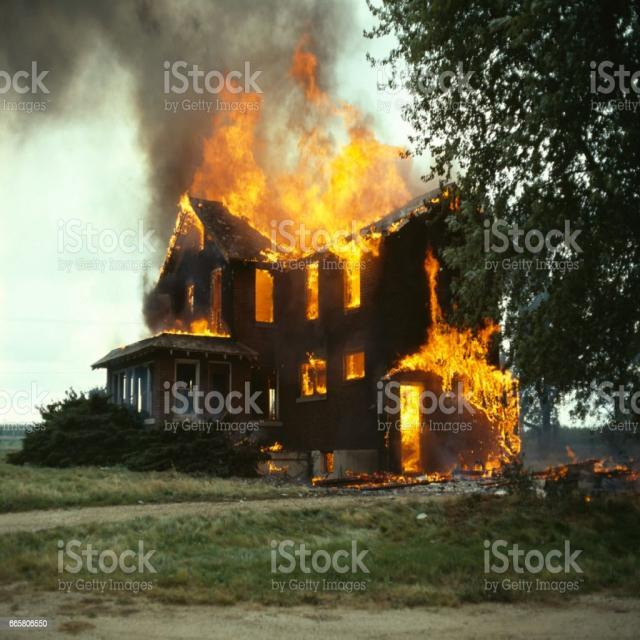Fire: (267, 41, 379, 268), (200, 88, 261, 214), (457, 328, 518, 412), (545, 446, 640, 494), (424, 250, 454, 384), (162, 190, 194, 274), (379, 141, 408, 222), (479, 416, 518, 476), (400, 357, 418, 478), (163, 320, 234, 344), (299, 362, 331, 396), (304, 268, 320, 328), (343, 271, 360, 311)
Smoke: (0, 0, 261, 80), (123, 84, 195, 186)
